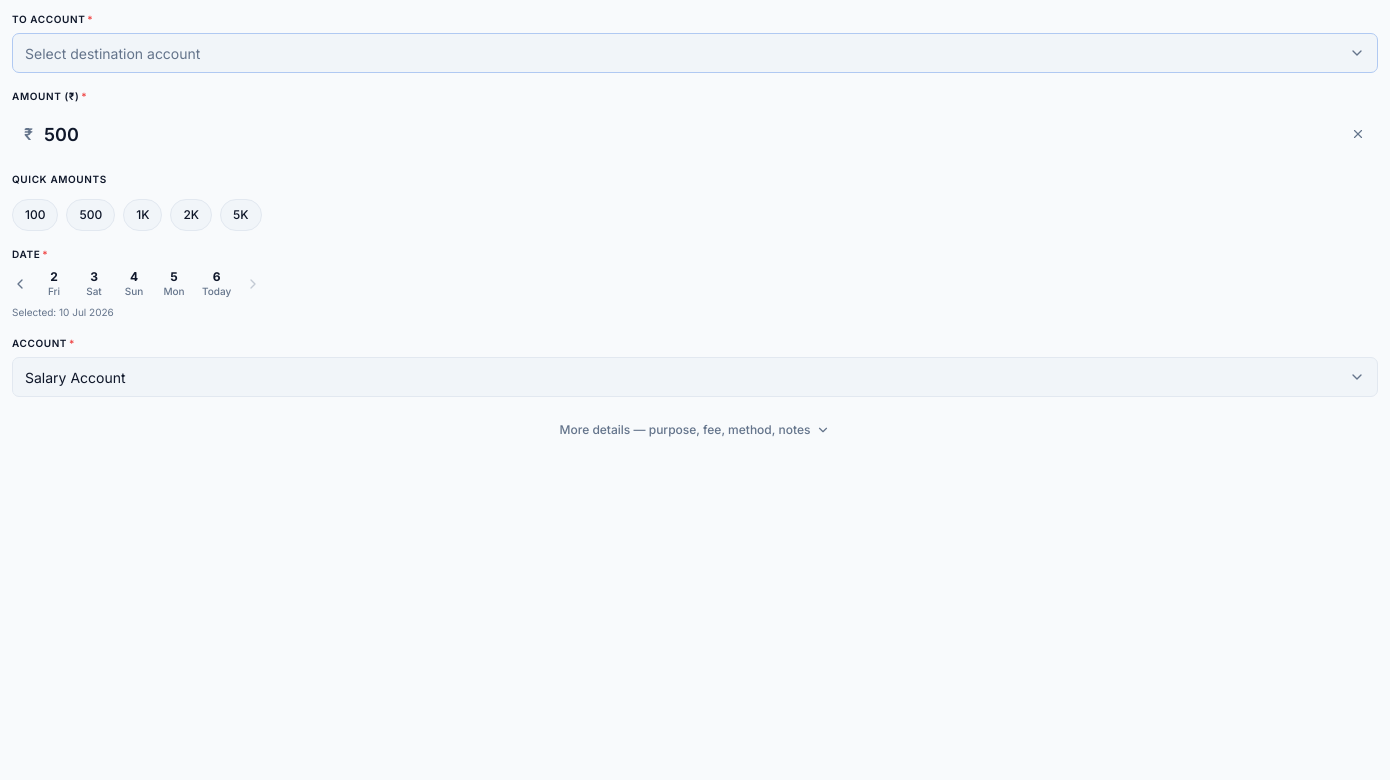
it: TransferForm — fund purpose tag › shows the direction toggle once a fund is selected
The width and height of the screenshot is (1390, 780).
Click the button "More details — purpose, fee, method, notes" at (695, 430), box [12,413,1378,447]
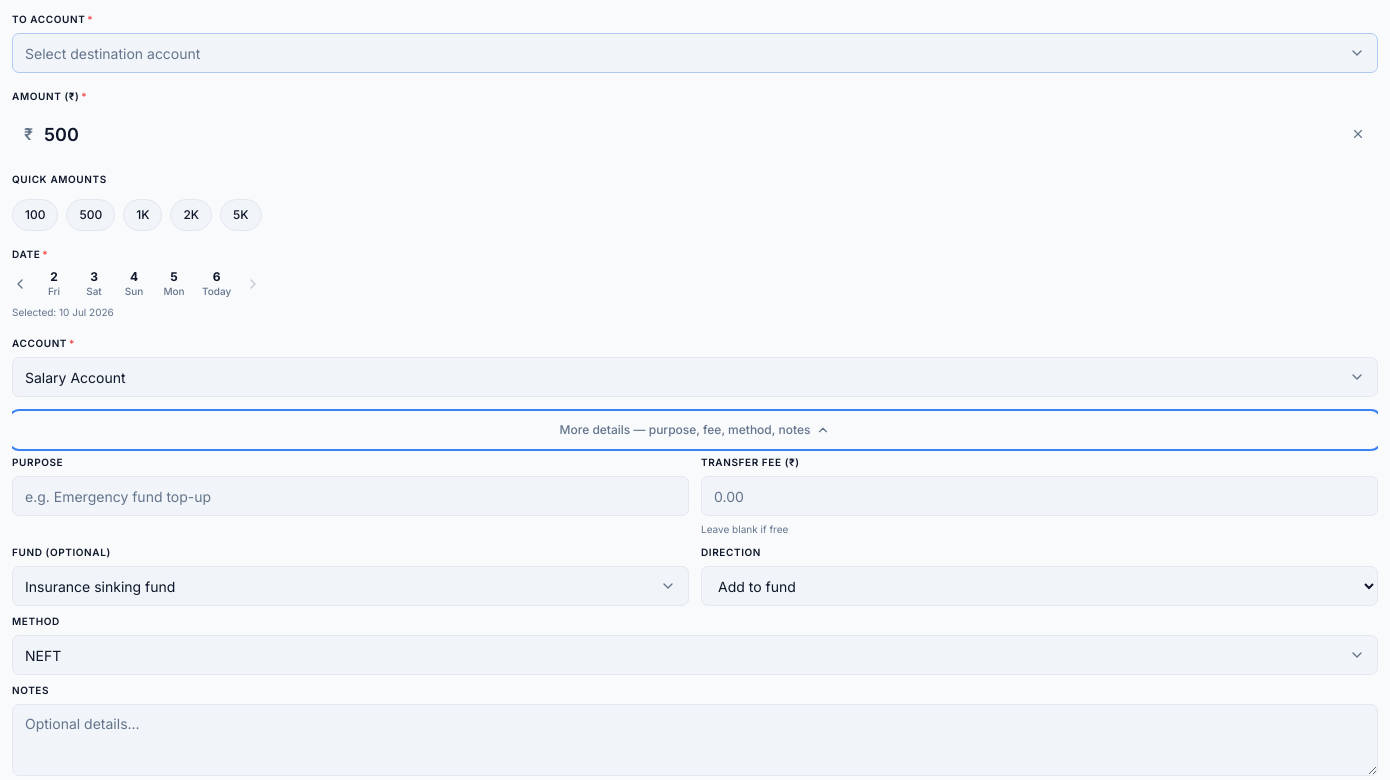
Expected: the dropdown labelled "Direction" is shown, [701,566,1378,606]
